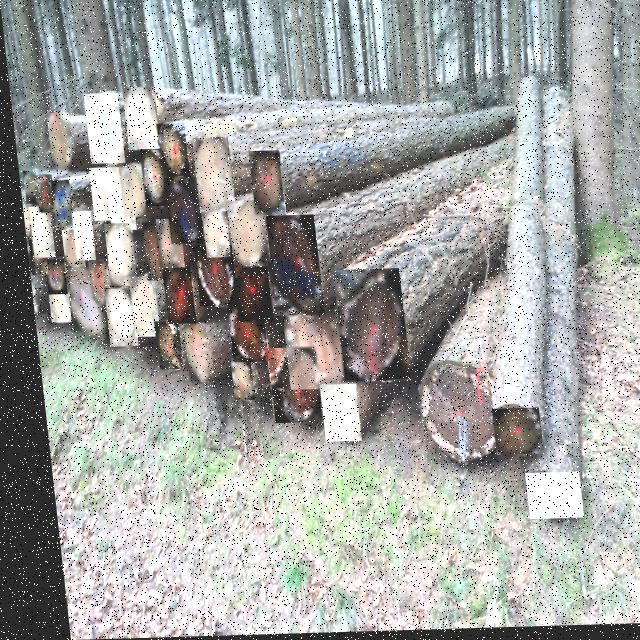wood-log: (410, 364, 486, 465), (332, 271, 395, 382), (277, 312, 346, 390), (263, 217, 315, 317), (263, 349, 312, 424), (63, 269, 101, 339), (515, 475, 571, 521), (192, 139, 227, 212), (86, 94, 120, 164), (190, 247, 229, 307), (162, 178, 197, 244), (225, 202, 259, 268), (311, 386, 350, 443), (484, 411, 531, 457), (223, 305, 259, 363), (247, 153, 279, 216), (122, 89, 154, 149), (231, 265, 262, 323), (99, 290, 129, 345), (102, 224, 128, 285), (160, 268, 187, 325), (155, 125, 184, 178), (105, 168, 129, 231), (138, 150, 165, 206), (126, 277, 149, 338), (138, 224, 162, 281), (46, 114, 70, 169), (178, 326, 202, 381), (198, 210, 224, 259), (117, 166, 141, 217), (152, 220, 176, 269), (26, 207, 48, 258), (88, 168, 109, 221), (68, 212, 89, 260), (151, 322, 172, 370), (49, 181, 67, 230), (224, 361, 244, 401), (85, 262, 103, 305), (32, 175, 50, 213), (40, 260, 60, 294), (59, 230, 77, 267), (42, 291, 64, 321), (25, 240, 40, 275), (21, 171, 33, 203)
